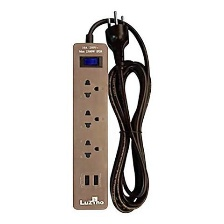three_eye_plug: (68, 40, 110, 211)
